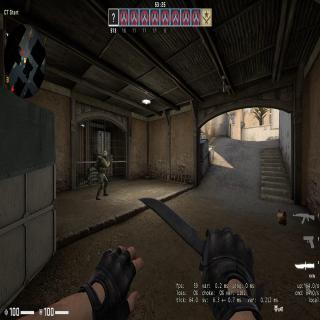CT-Body: (94, 150, 110, 194)
CT-Head: (102, 150, 107, 159)
